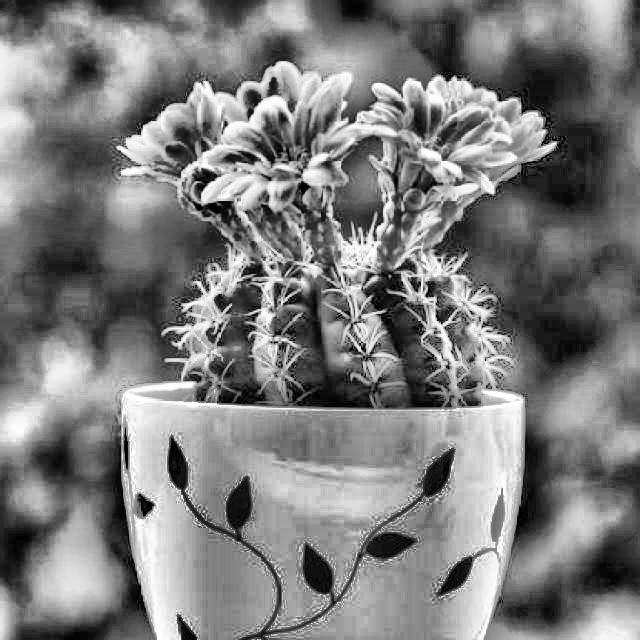plants: (123, 59, 522, 633)
